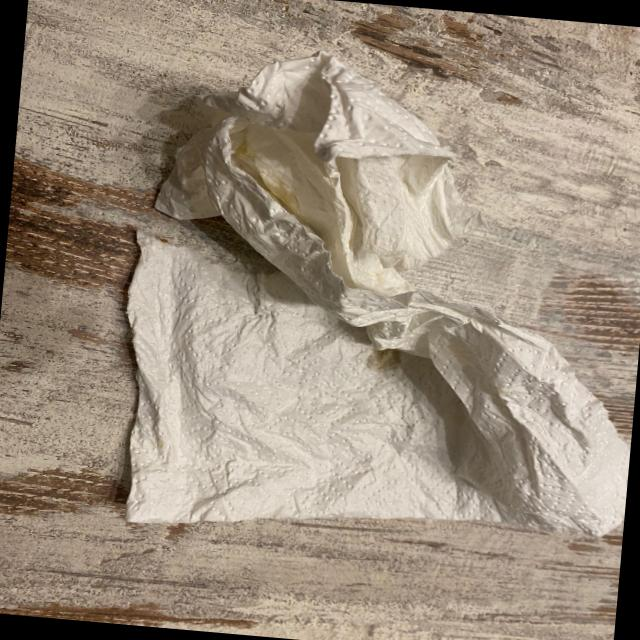organic waste: (100, 223, 640, 565), (138, 31, 486, 324)
